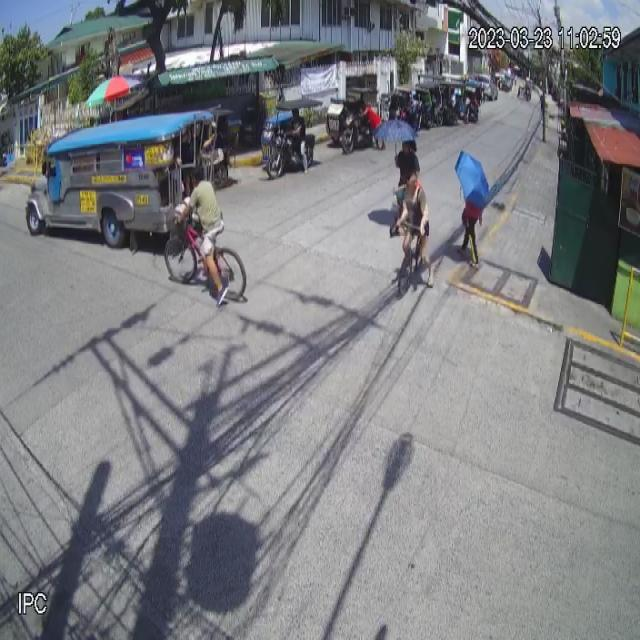Jeep: (24, 110, 217, 247)
